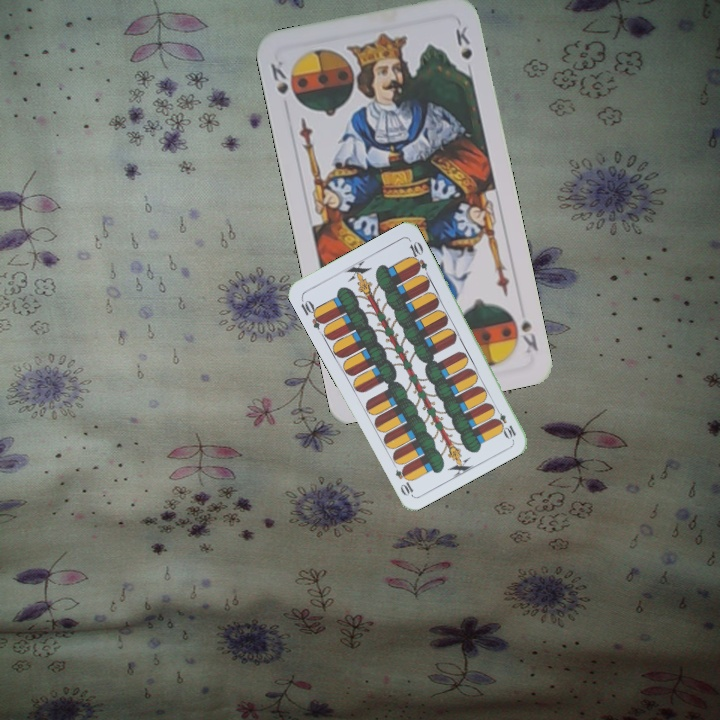E10: (297, 294, 327, 332), (490, 403, 519, 441)
SK: (266, 56, 291, 97), (517, 317, 541, 356)
